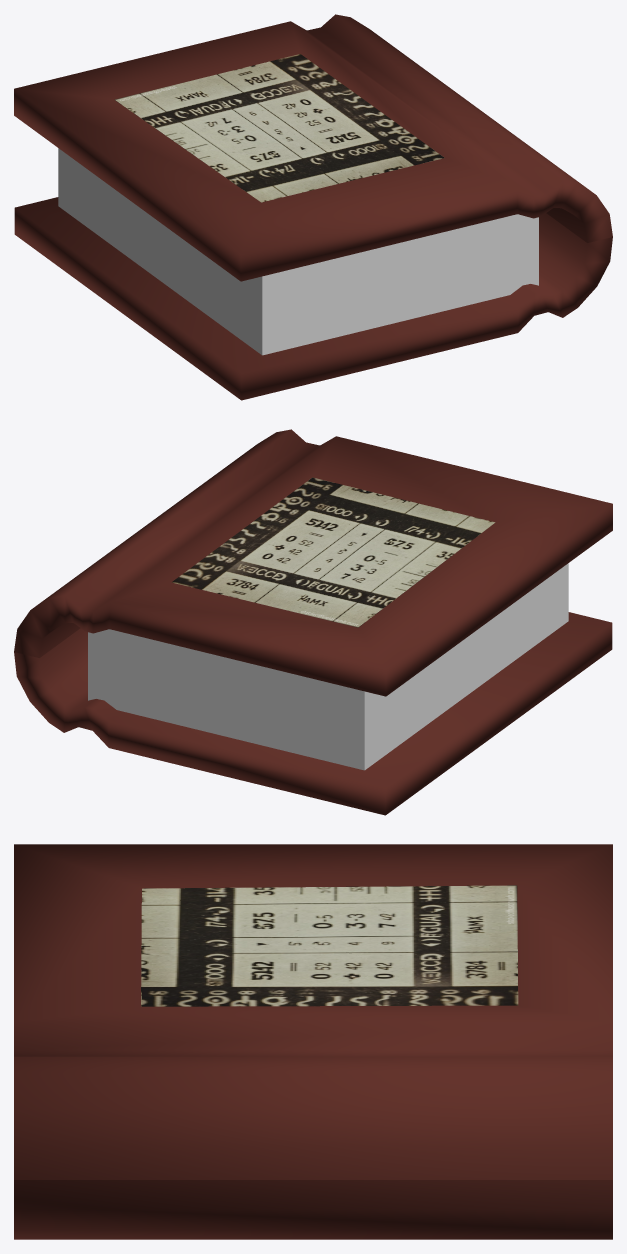
Rendered from books1.dae.
The picture shows the model from 3 angles, top to bottom: view 1: azimuth 30°, elevation 25°; view 2: azimuth 150°, elevation 25°; view 3: azimuth 270°, elevation 25°; orthographic projection. The views are drawn at different scales.
Parts seen in each view (by area): view 1: Cube; view 2: Cube; view 3: Cube.
Part boxes in pixels (x1,y1,x2,y2): Cube: (14,14,612,400); Cube: (14,429,612,815); Cube: (14,844,612,1239).
Bounding box in the file's own units: 0.2754 × 0.2909 × 0.1031.
3 materials, 1 textured.
